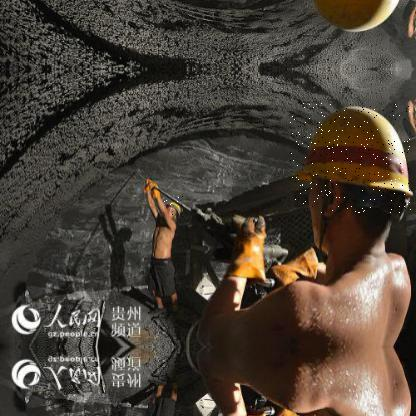safetyhelmet: (290, 103, 412, 214), (164, 194, 184, 222)
